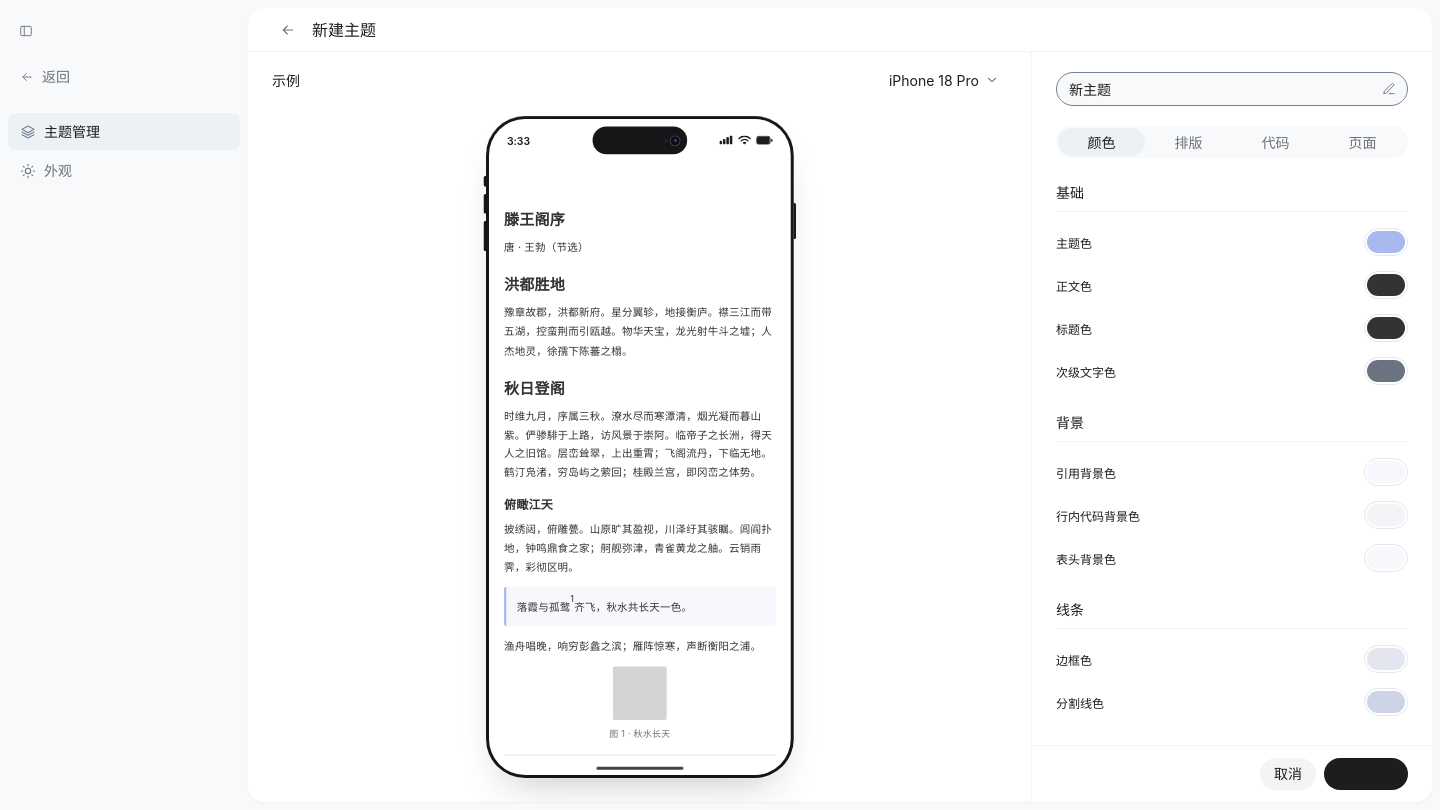
Test: 主题编辑器：新建 › 名称为空时阻止创建并提示
The image size is (1440, 810).
Clear the field named "主题名称" at (1220, 89), box [1069, 73, 1371, 105]
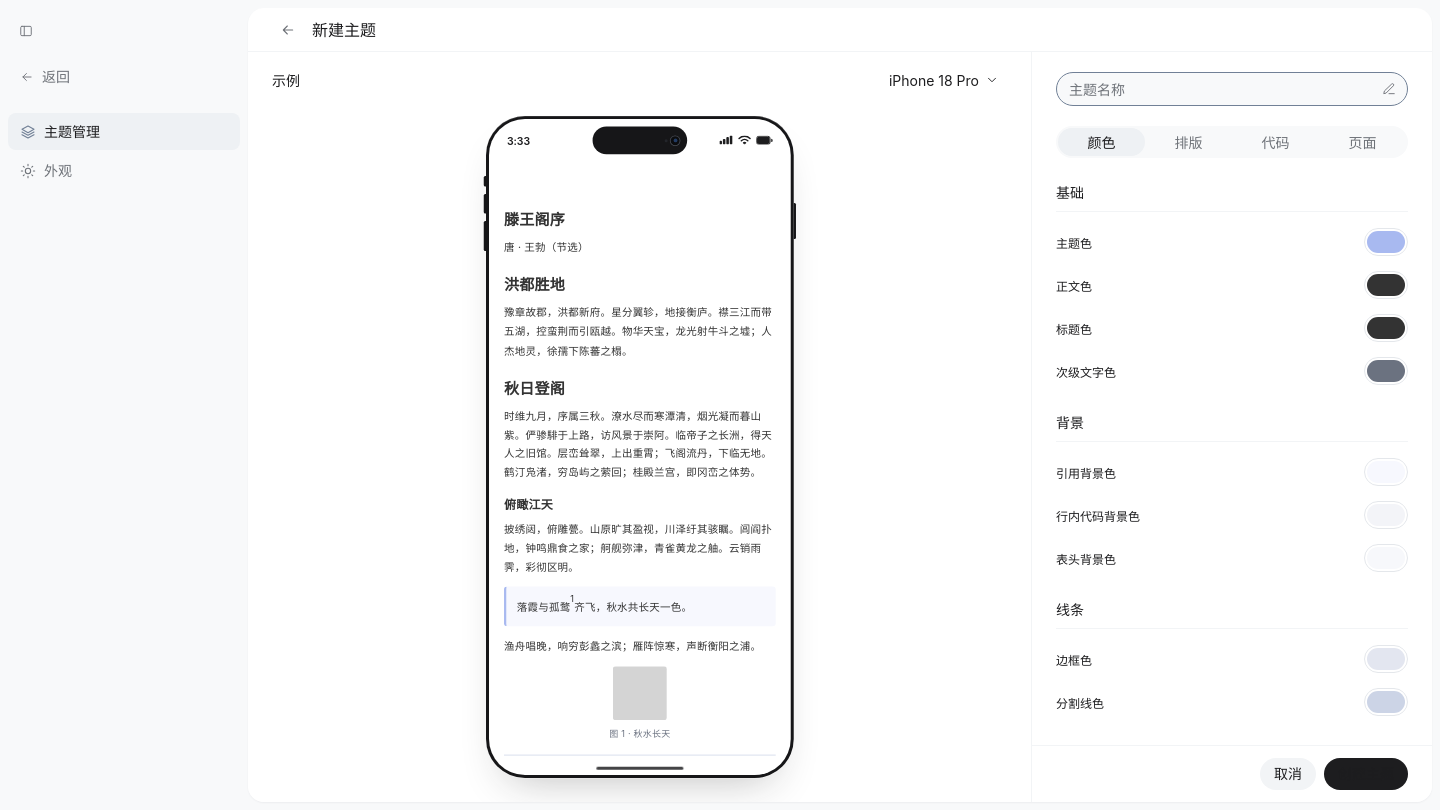
Click the button "创建主题" at (1366, 774), box [1324, 758, 1408, 790]
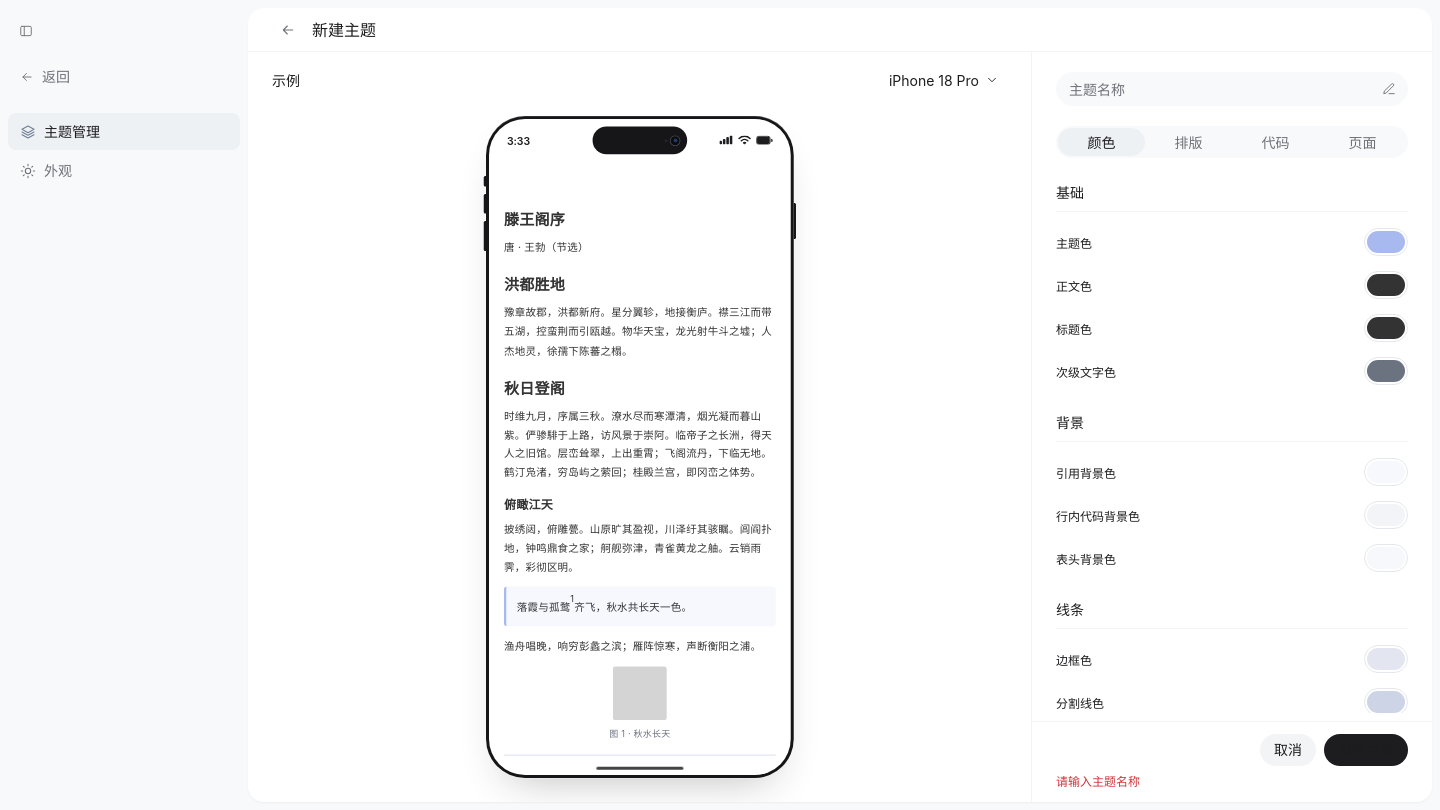
Now the message reads "请输入主题名称", box [1056, 774, 1140, 789]
